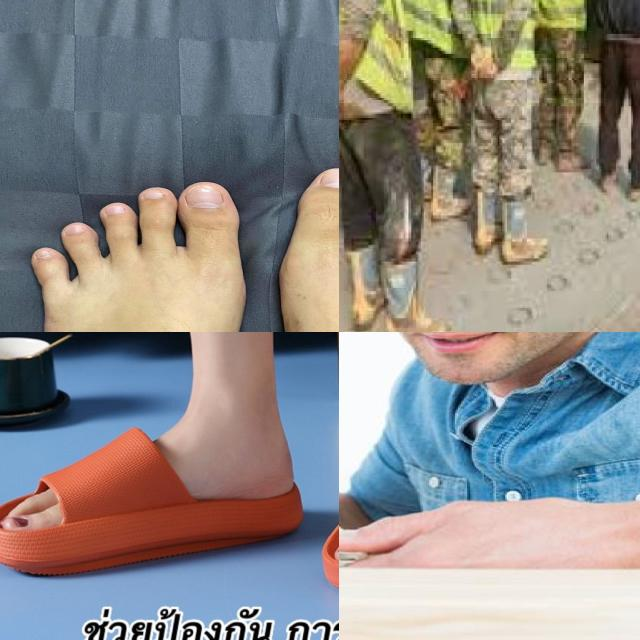Barefoots: (35, 163, 339, 332)
Sandals: (0, 332, 339, 640)
face_nomask: (399, 332, 577, 383)
hand_noglove: (339, 498, 640, 567)
